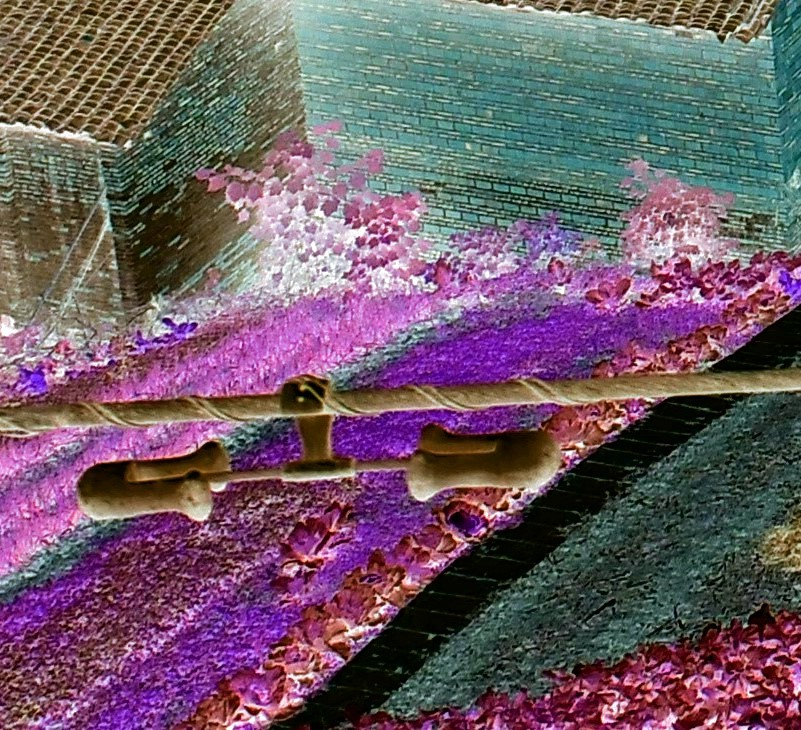Shockproof hammer: (72, 367, 578, 527)
